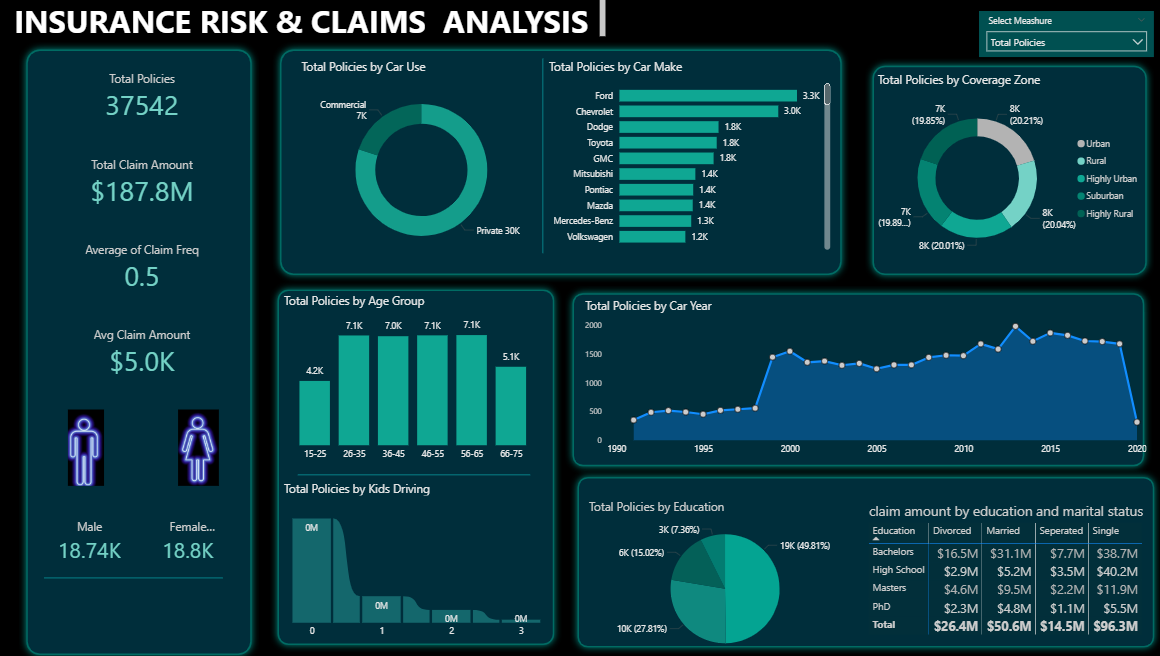

The dashboard page shown, as its layout file describes it:
{"tool":"powerbi","page":{"name":"Page 1","canvas":[1600,950],"ordinal":0},"visuals":[{"type":"textbox","box":[15.4,0,821.6,63.5],"z":0},{"type":"shape","box":[27.4,63.5,329.3,850.8],"z":1000},{"type":"cardVisual","fields":{"Data":["insurance_data_car.Total Policies","insurance_data_car.Total Claim Amount","Avg(insurance_data_car.Claim Freq)","insurance_data_car.Avg Claim Amount"]},"box":[61.7,84,269.3,459.7],"z":2000},{"type":"cardVisual","fields":{"Data":["insurance_data_car.Male Count","insurance_data_car.Female Count"]},"box":[61.7,693,260.7,109.8],"z":3000},{"type":"image","box":[216.1,562.6,114.9,114.9],"z":4000},{"type":"image","box":[61.7,562.6,114.9,114.9],"z":5000},{"type":"slicer","fields":{"Values":["Select Meashure.Select Meashure"]},"box":[1344.8,20.6,240.1,63.5],"z":6000},{"type":"shape","box":[1188.7,85.8,396.2,307],"z":7000},{"type":"shape","box":[375.6,63.5,790.7,329.3],"z":8000},{"type":"donutChart","fields":{"Y":["insurance_data_car.Total Policies"],"Category":["insurance_data_car.Car Use"]},"box":[409.9,85.8,339.6,284.7],"z":9000},{"type":"clusteredBarChart","fields":{"Y":["insurance_data_car.Total Policies"],"Category":["insurance_data_car.Car Make"]},"box":[749.6,85.8,396.2,267.6],"z":10000},{"type":"shape","box":[783.9,650.1,811.3,253.9],"z":11000},{"type":"donutChart","fields":{"Y":["insurance_data_car.Total Policies"],"Category":["insurance_data_car.Coverage Zone"]},"box":[1200.7,102.9,375.6,272.7],"z":12000},{"type":"shape","box":[372.2,392.8,399.7,507.7],"z":13000},{"type":"clusteredColumnChart","fields":{"Y":["insurance_data_car.Total Policies"],"Category":["insurance_data_car.Age Group"]},"box":[385.9,406.5,365.4,240.1],"z":14000},{"type":"ribbonChart","fields":{"Y":["insurance_data_car.Total Policies"],"Category":["insurance_data_car.Kids Driving"]},"box":[385.9,663.8,373.9,226.4],"z":15000},{"type":"shape","box":[777,397.9,804.5,257.3],"z":16000},{"type":"areaChart","fields":{"Y":["insurance_data_car.Total Policies"],"Category":["insurance_data_car.Car Year"]},"box":[799.3,413.4,780.4,226.4],"z":17000},{"type":"pieChart","fields":{"Y":["insurance_data_car.Total Policies"],"Category":["insurance_data_car.Education"]},"box":[804.5,689.5,384.2,226.4],"z":18000},{"type":"shape","box":[741,85.8,10.3,267.6],"z":19000},{"type":"shape","box":[409.9,620.9,319,72],"z":20000},{"type":"shape","box":[61.7,777,245.3,42.9],"z":21000},{"type":"pivotTable","title":"claim amount by education and marital status","fields":{"Rows":["insurance_data_car.Education"],"Columns":["insurance_data_car.Marital Status"],"Values":["insurance_data_car.Total Claim Amount"]},"box":[1188.7,693,394.5,223],"z":22000}]}

Visuals, with their boxes on the page's 1600x950 design canvas (x1, y1, x2, y2). These are canvas units, not pixel positions in the 1160x656 screenshot, which may show the page scaled, cropped or inside an application window:
textbox: locate(15, 0, 837, 64)
shape: locate(27, 64, 357, 914)
cardVisual - insurance_data_car.Total Policies x insurance_data_car.Total Claim Amount: locate(62, 84, 331, 544)
cardVisual - insurance_data_car.Male Count x insurance_data_car.Female Count: locate(62, 693, 322, 803)
image: locate(216, 563, 331, 678)
image: locate(62, 563, 177, 678)
slicer - Select Meashure.Select Meashure: locate(1345, 21, 1585, 84)
shape: locate(1189, 86, 1585, 393)
shape: locate(376, 64, 1166, 393)
donutChart - insurance_data_car.Total Policies x insurance_data_car.Car Use: locate(410, 86, 750, 370)
clusteredBarChart - insurance_data_car.Total Policies x insurance_data_car.Car Make: locate(750, 86, 1146, 353)
shape: locate(784, 650, 1595, 904)
donutChart - insurance_data_car.Total Policies x insurance_data_car.Coverage Zone: locate(1201, 103, 1576, 376)
shape: locate(372, 393, 772, 900)
clusteredColumnChart - insurance_data_car.Total Policies x insurance_data_car.Age Group: locate(386, 406, 751, 647)
ribbonChart - insurance_data_car.Total Policies x insurance_data_car.Kids Driving: locate(386, 664, 760, 890)
shape: locate(777, 398, 1582, 655)
areaChart - insurance_data_car.Total Policies x insurance_data_car.Car Year: locate(799, 413, 1580, 640)
pieChart - insurance_data_car.Total Policies x insurance_data_car.Education: locate(804, 690, 1189, 916)
shape: locate(741, 86, 751, 353)
shape: locate(410, 621, 729, 693)
shape: locate(62, 777, 307, 820)
"claim amount by education and marital status" pivotTable: locate(1189, 693, 1583, 916)
